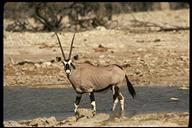antelope: (52, 29, 139, 119)
water: (5, 88, 71, 115), (138, 86, 188, 110)
